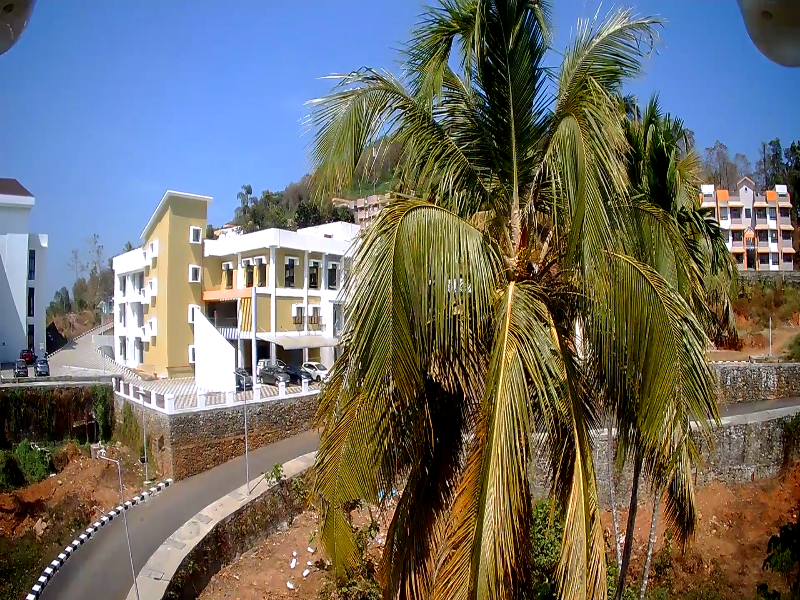coconut: (491, 287, 506, 300)
